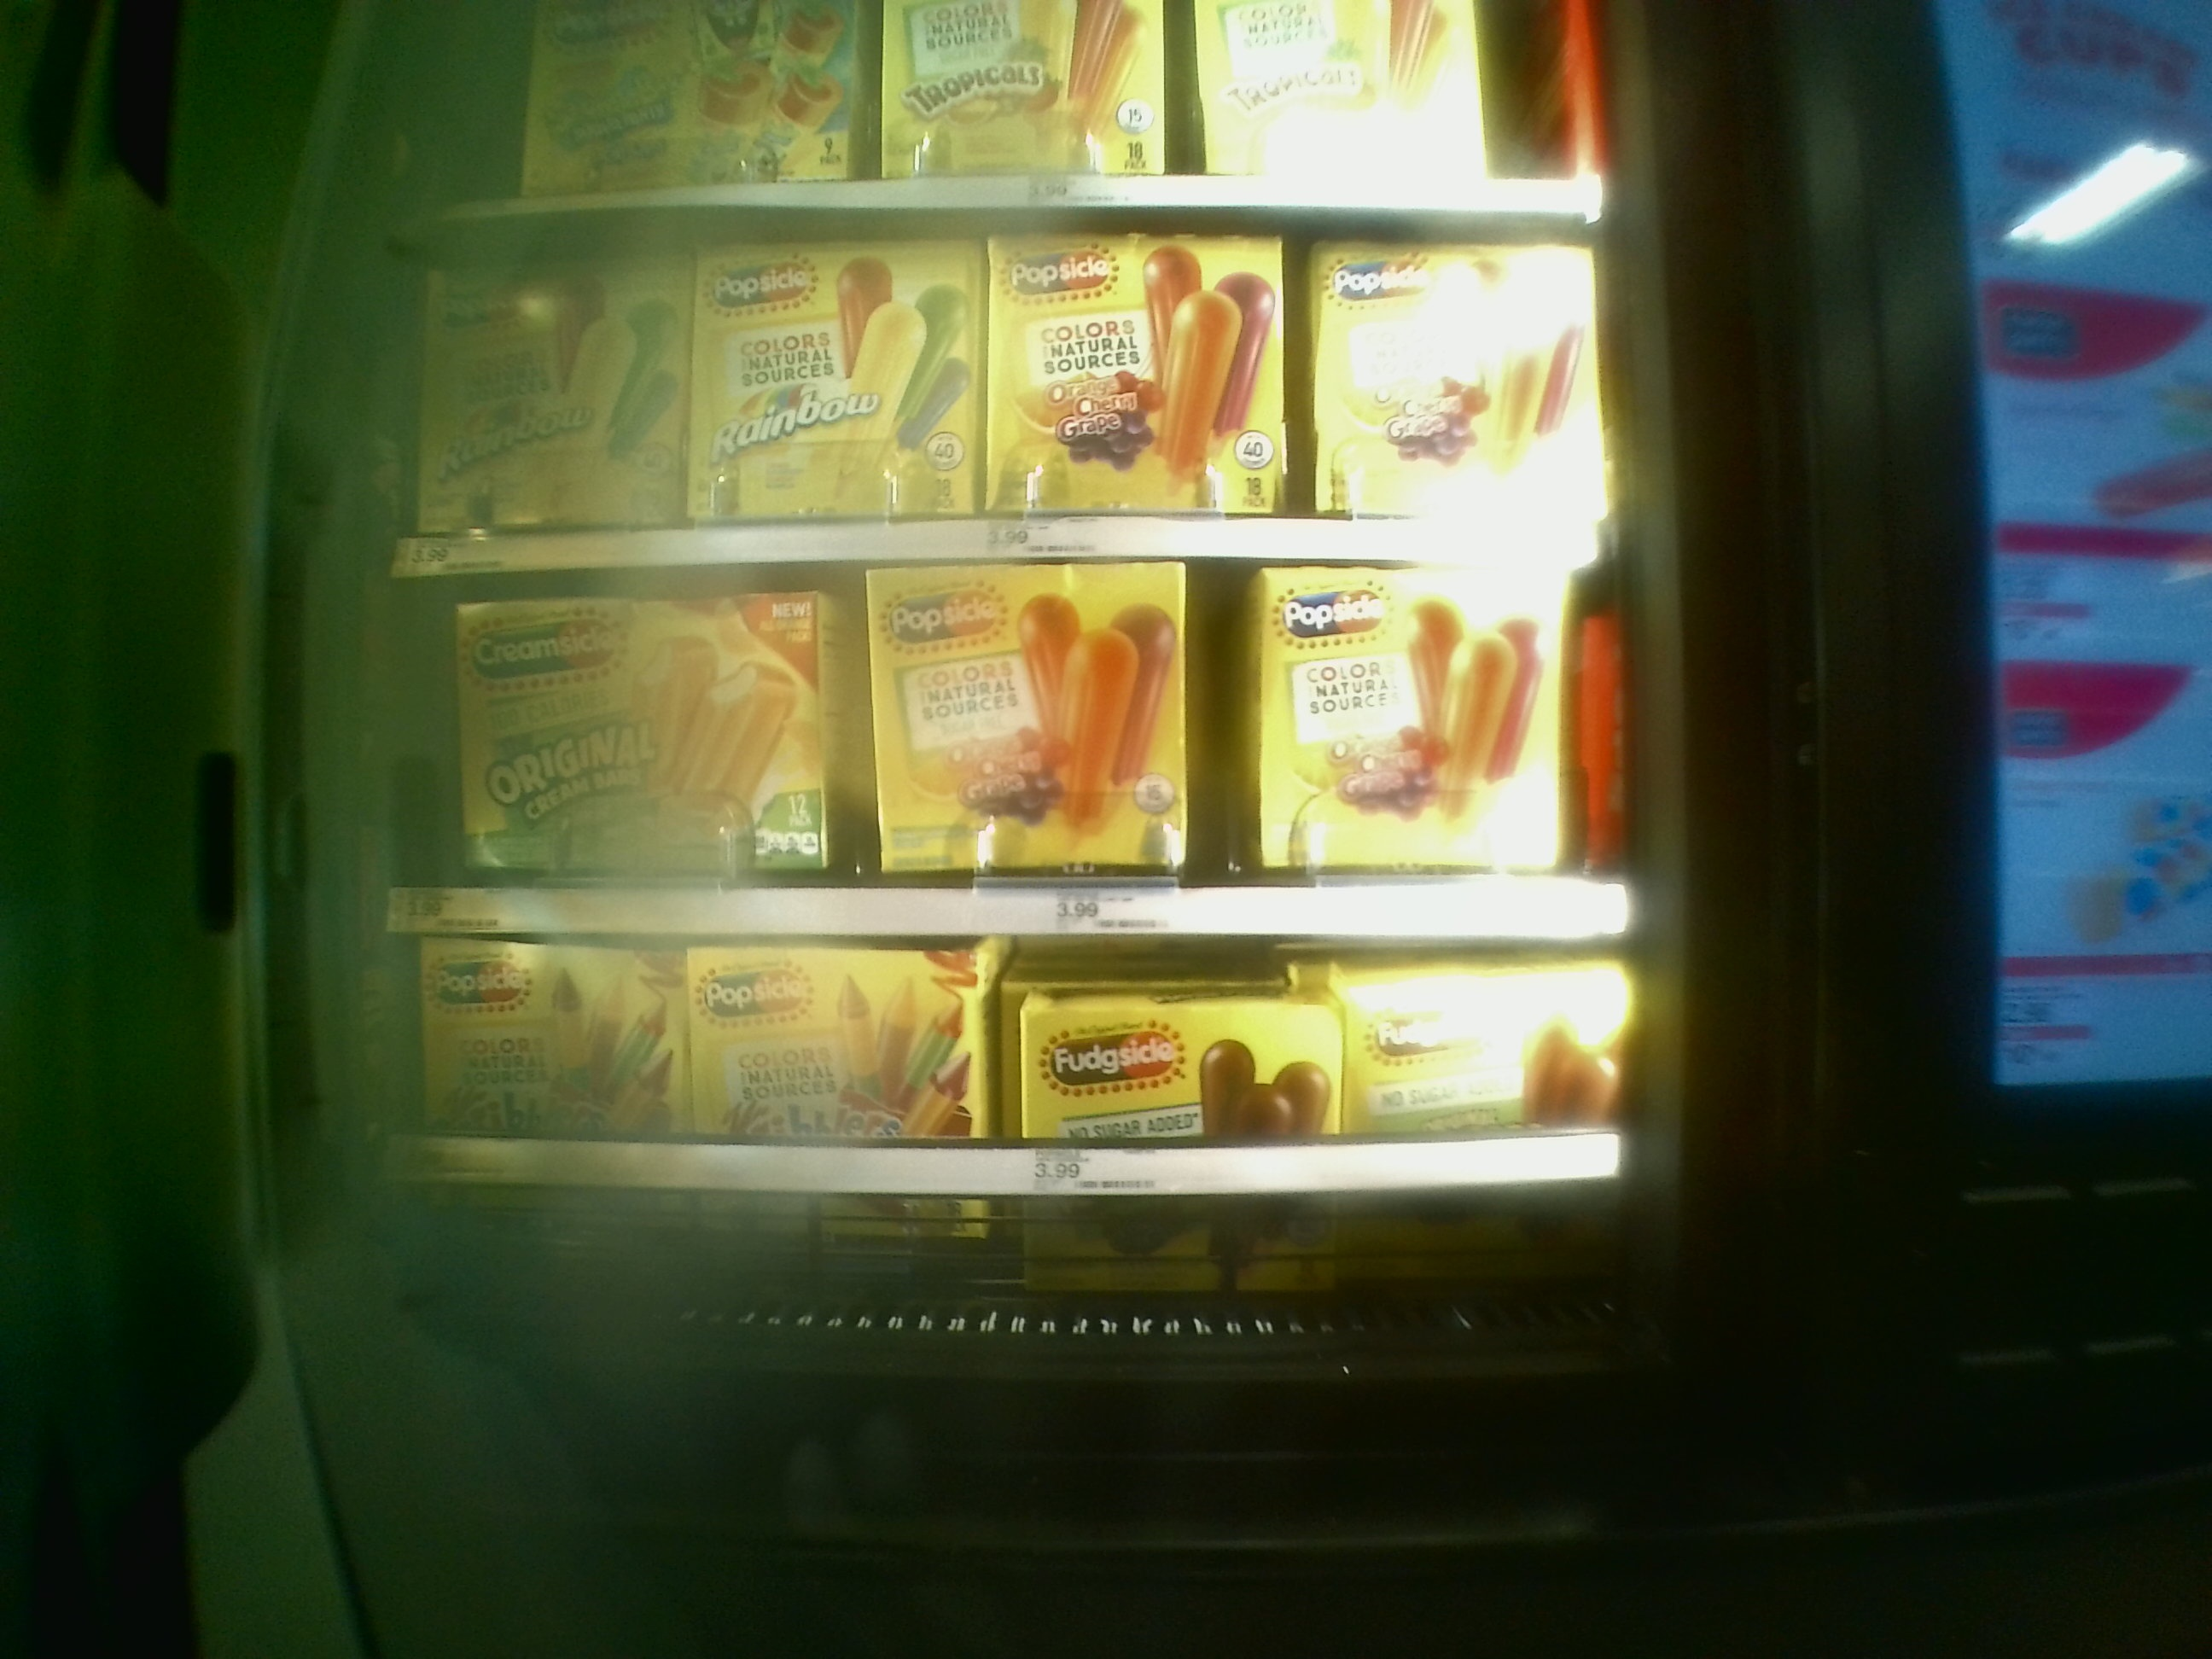frozen-food-shelf: (361, 580, 1656, 932), (355, 932, 1663, 1199)
